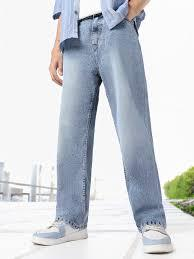jeans: (52, 13, 173, 231)
